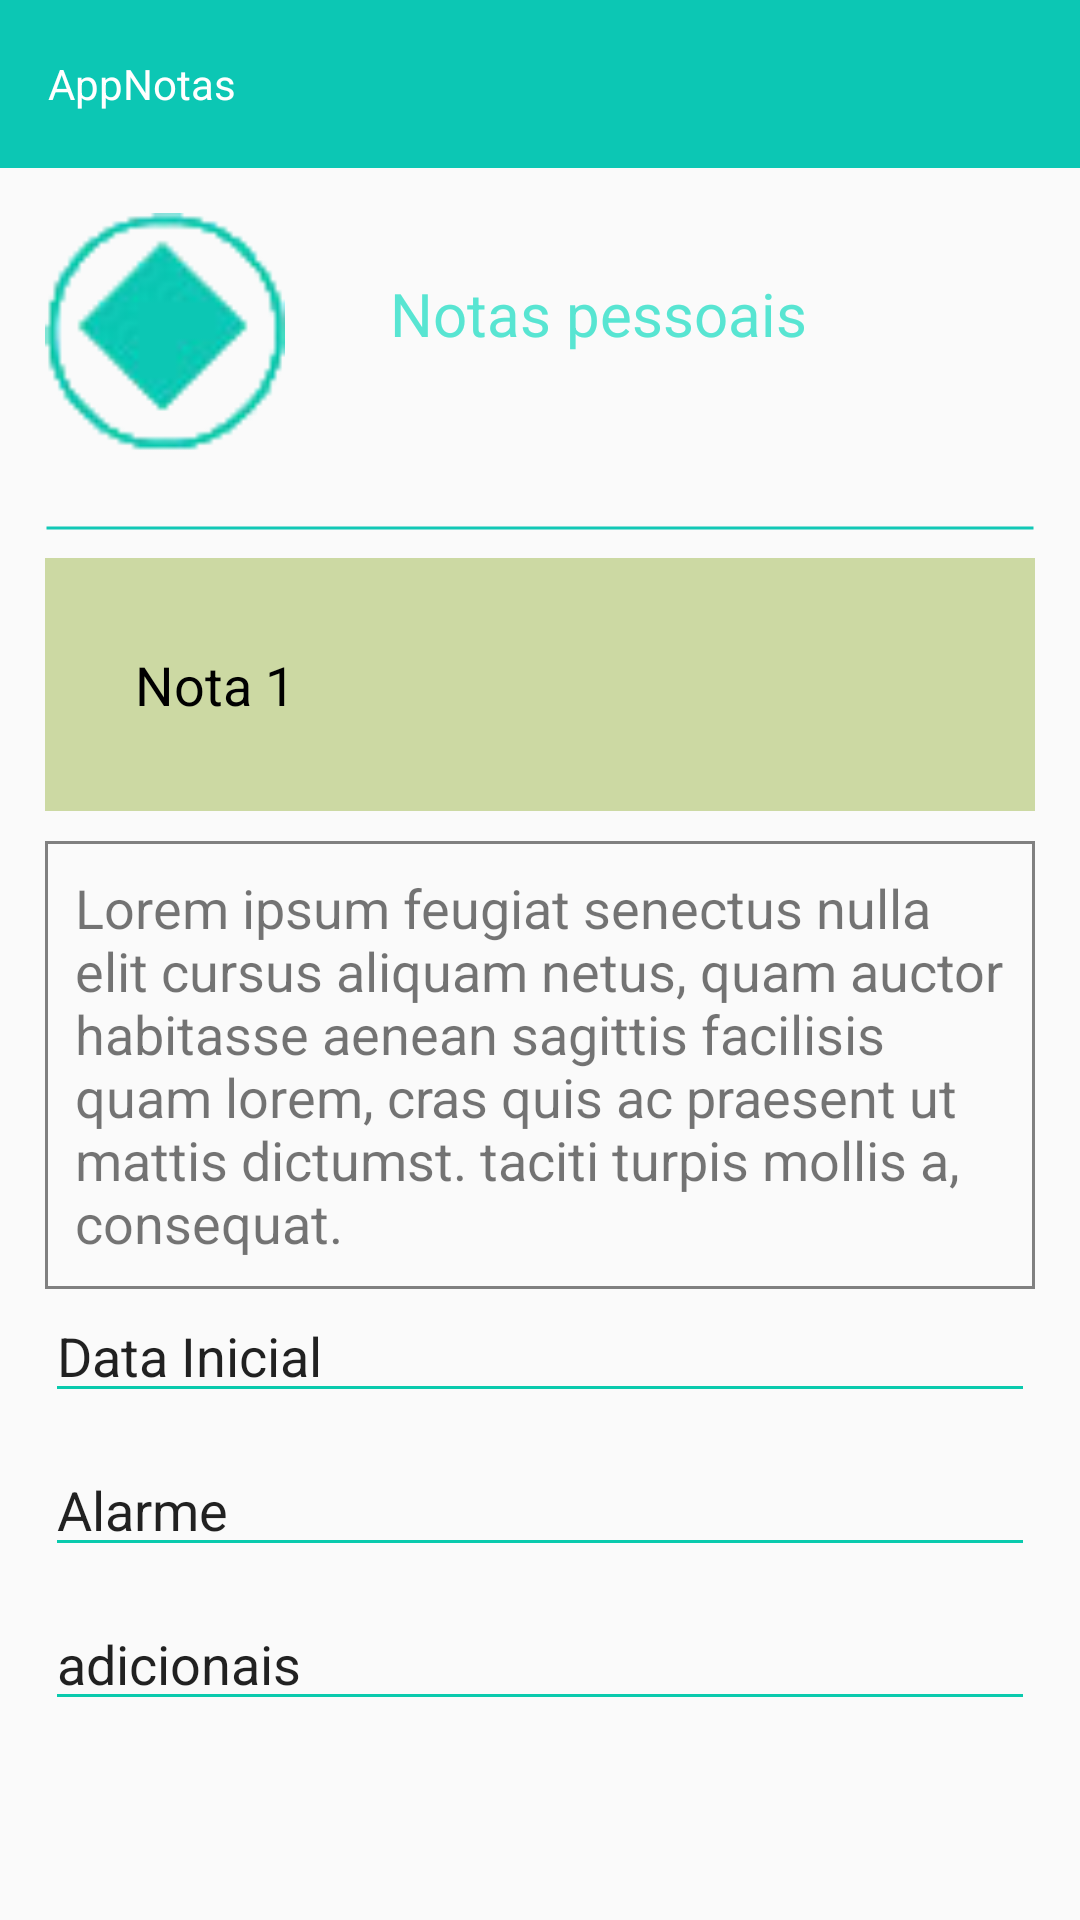

Icons on this 1080*1920 Android screen, each with the point to tap as point (x, y):
circuloretangulo: point (165, 331)
